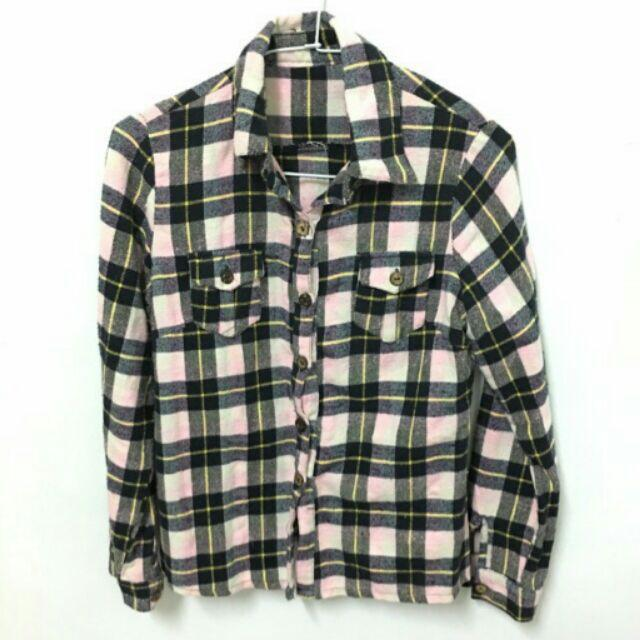Tops: (98, 10, 562, 622)
